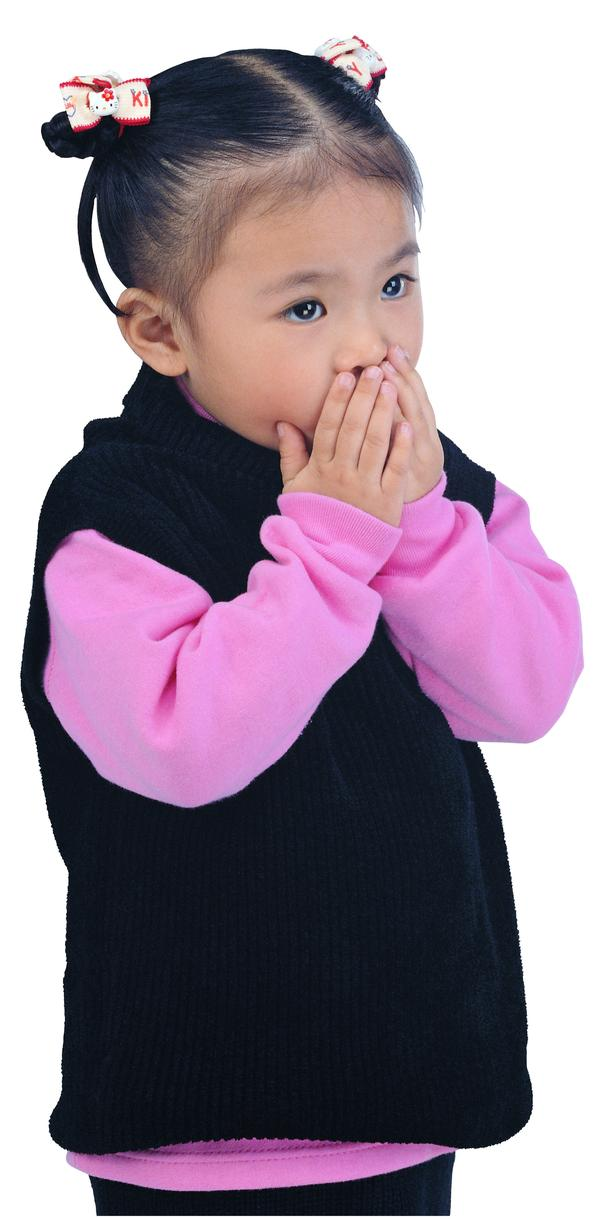face: (217, 157, 422, 451)
